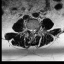CCS_stenosis: (31, 26, 33, 35)
LFS_normal: (35, 26, 37, 32)
LLS_normal: (33, 26, 35, 34)
RFS_normal: (27, 26, 29, 33)
RLS_normal: (29, 26, 31, 34)
